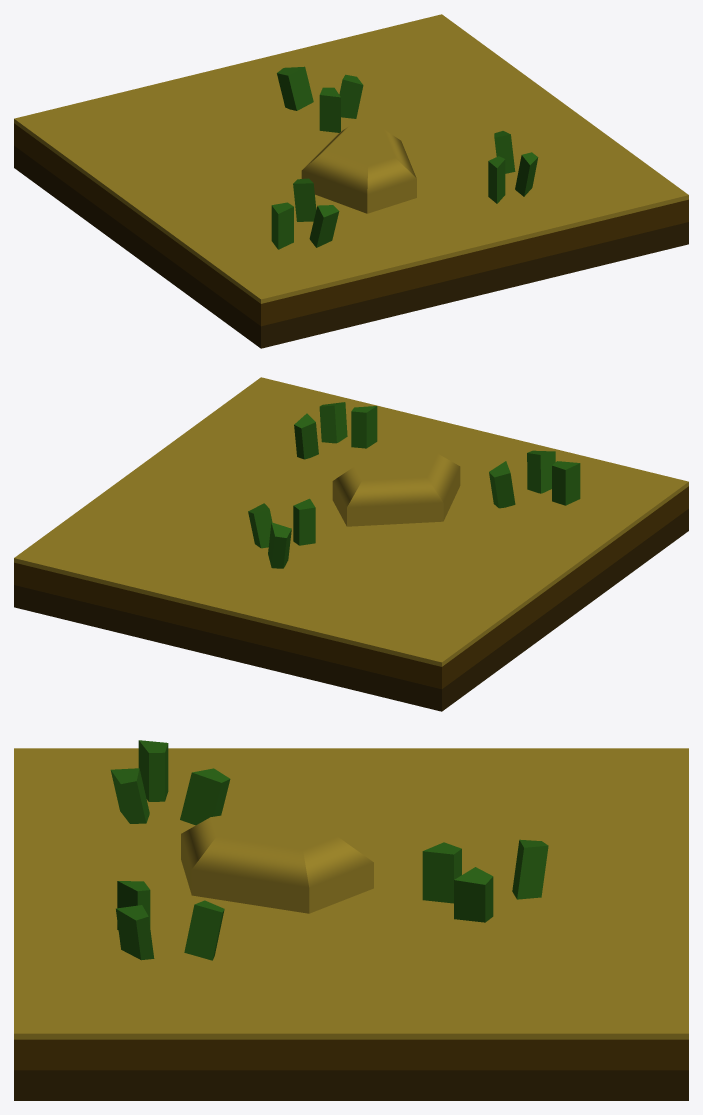
Rendered from splineDesert2.glb.
The picture shows the model from 3 angles, top to bottom: view 1: azimuth 30°, elevation 25°; view 2: azimuth 150°, elevation 25°; view 3: azimuth 270°, elevation 25°; orthographic projection. The views are drawn at different scales.
Visible parts, largest first — view 1: TopLayer, BottomLayer, MiddleLayer, mountain2, Cactus 3 (×3), Cactus (×3), Cactus 2 (×3); view 2: TopLayer, BottomLayer, MiddleLayer, mountain2, Cactus (×3), Cactus 2 (×3), Cactus 3 (×3); view 3: TopLayer, MiddleLayer, BottomLayer, mountain2, Cactus 3 (×3), Cactus 2 (×3), Cactus (×3).
Boxes of the visible parts, box(x1,y1,x2,y2) form: TopLayer: box(14, 14, 688, 303); BottomLayer: box(14, 146, 688, 348); MiddleLayer: box(14, 123, 688, 326); mountain2: box(301, 125, 416, 213); Cactus 3 (×3): box(277, 66, 515, 221); Cactus (×3): box(271, 87, 505, 249); Cactus 2 (×3): box(309, 74, 538, 247); TopLayer: box(14, 377, 688, 666); BottomLayer: box(14, 509, 688, 711); MiddleLayer: box(14, 486, 688, 689); mountain2: box(332, 448, 460, 526); Cactus (×3): box(293, 406, 580, 545); Cactus 2 (×3): box(248, 402, 555, 548); Cactus 3 (×3): box(268, 413, 515, 568); TopLayer: box(14, 748, 688, 1039); MiddleLayer: box(14, 1039, 688, 1070); BottomLayer: box(14, 1070, 688, 1100); mountain2: box(181, 806, 373, 913); Cactus 3 (×3): box(180, 768, 548, 960); Cactus 2 (×3): box(110, 768, 493, 960); Cactus (×3): box(117, 740, 461, 930).
Size of the model in its own units: 1 by 0.1987 by 1.
